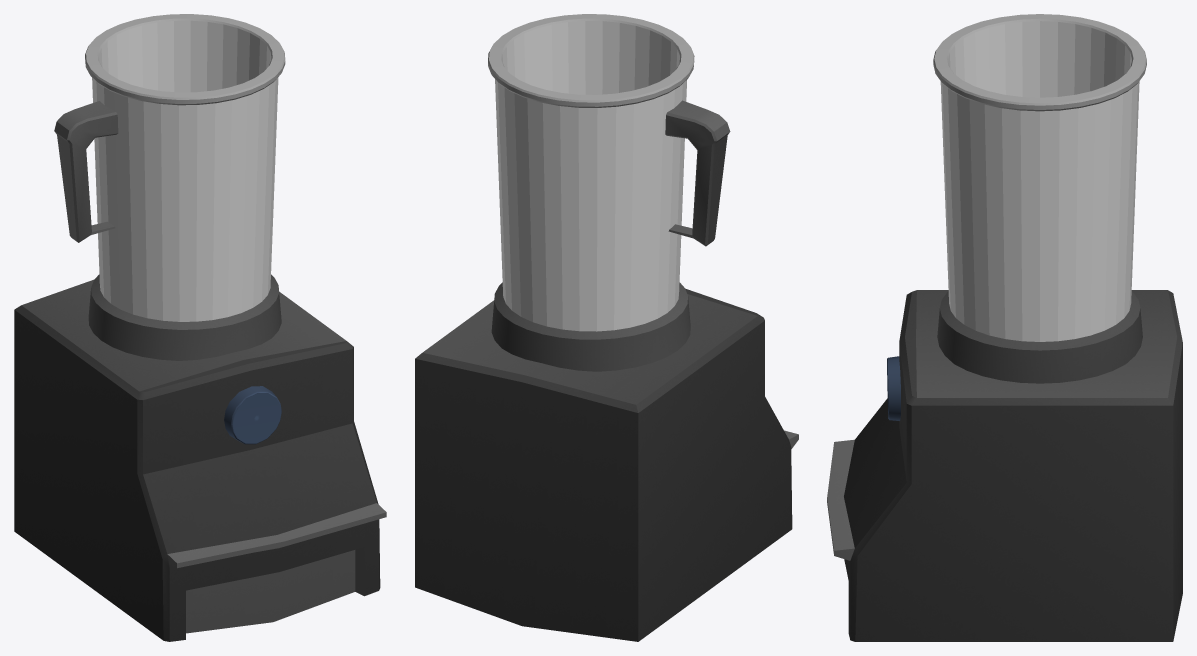
Rendered from blender4.fbx.
3 views of the same model, side by side, from view 1: azimuth 30°, elevation 25°; view 2: azimuth 150°, elevation 25°; view 3: azimuth 270°, elevation 25° (orthographic). The views are drawn at different scales.
Visible parts, largest first — view 1: blender4, blender4Glass; view 2: blender4, blender4Glass; view 3: blender4, blender4Glass.
Part boxes in pixels (x1,y1,x2,y2): blender4: (14,14,386,641); blender4Glass: (92,20,278,321); blender4: (415,14,798,641); blender4Glass: (495,21,686,331); blender4: (827,14,1182,641); blender4Glass: (940,21,1139,341).
Size of the model in its own units: 0.9134 by 1.87 by 1.13.
